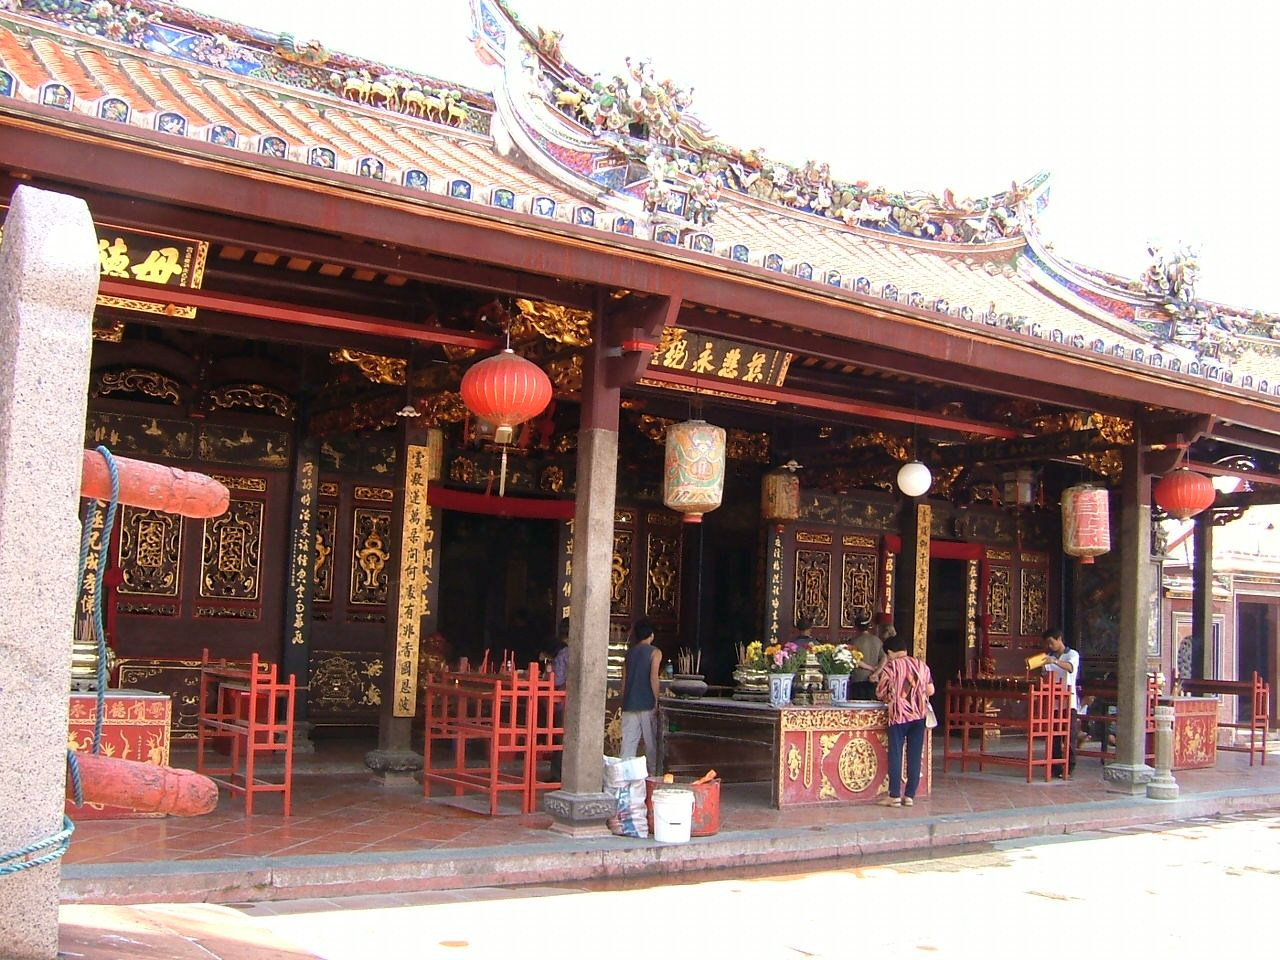Buddhist Temple: (2, 10, 1273, 770)
